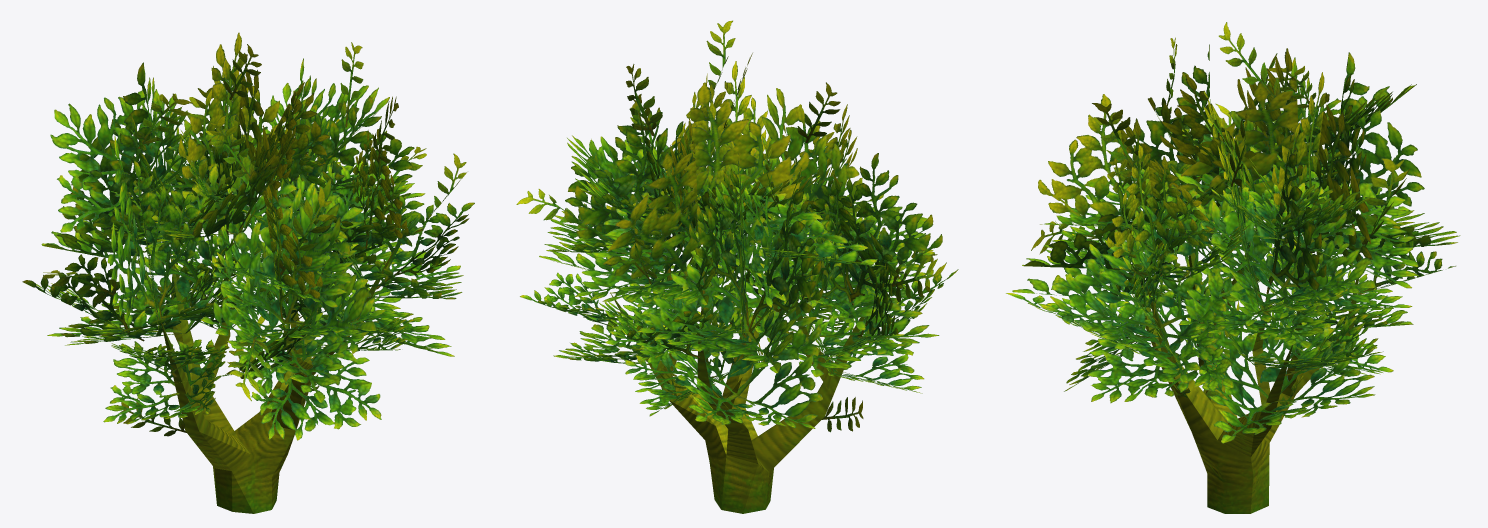
Rendered from Plant_zhiwu_tongyong_07.FBX.
3 renders of one model, left to right at view 1: azimuth 30°, elevation 25°; view 2: azimuth 150°, elevation 25°; view 3: azimuth 270°, elevation 25°, orthographic. The views are drawn at different scales.
Visible parts, largest first — view 1: Plant_zhiwu_tongyong_07; view 2: Plant_zhiwu_tongyong_07; view 3: Plant_zhiwu_tongyong_07.
Part boxes in pixels (<box>): Plant_zhiwu_tongyong_07: <box>22,32,474,513</box>; Plant_zhiwu_tongyong_07: <box>516,20,958,513</box>; Plant_zhiwu_tongyong_07: <box>1006,22,1460,513</box>.
Bounding box in the file's own units: 175 × 186 × 167.
